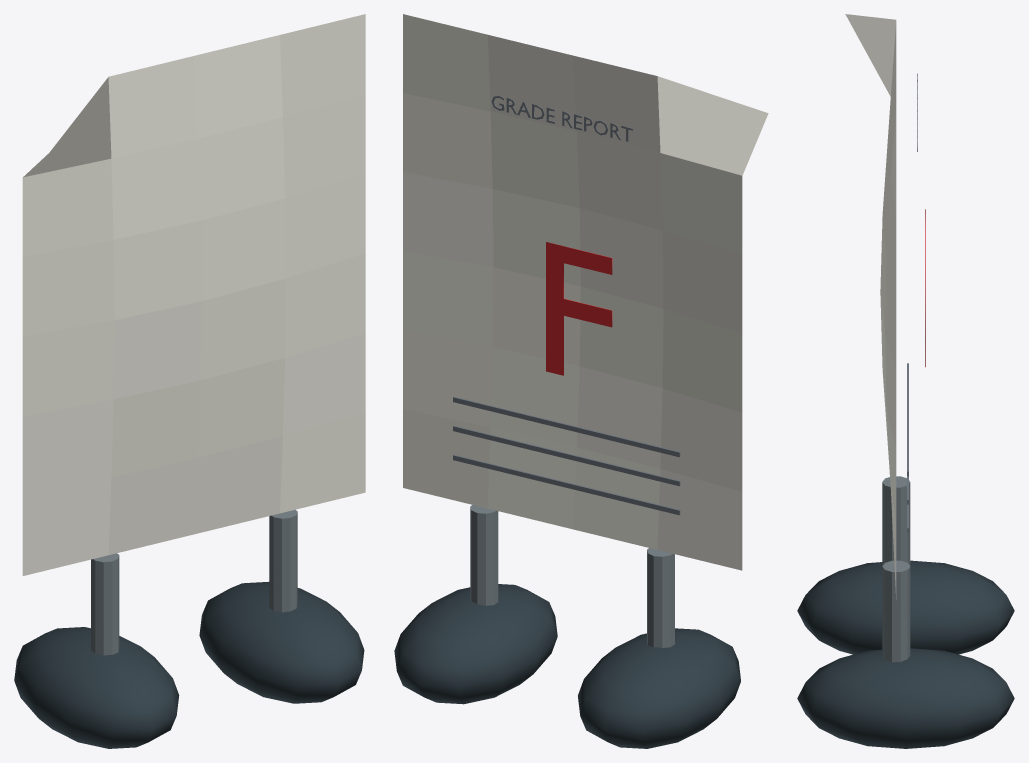
Rendered from paper.glb.
The picture shows the model from 3 angles, left to right: view 1: azimuth 30°, elevation 25°; view 2: azimuth 150°, elevation 25°; view 3: azimuth 270°, elevation 25°; orthographic projection. The views are drawn at different scales.
Parts seen in each view (by area): view 1: Grade sheet, Rubber foot.001, Rubber foot, Flexible leg, Flexible leg.001; view 2: Grade sheet, Rubber foot.001, Rubber foot, Giant F, Flexible leg, Flexible leg.001, Printed rule.002, Printed rule.001, Printed rule, Transcript label; view 3: Rubber foot, Rubber foot.001, Grade sheet, Flexible leg, Flexible leg.001.
Boxes of the visible parts, x1,y1,x2,y2 form: Grade sheet: (22, 14, 365, 575); Rubber foot.001: (14, 627, 179, 748); Rubber foot: (199, 581, 364, 703); Flexible leg: (269, 509, 297, 612); Flexible leg.001: (91, 553, 119, 655); Grade sheet: (403, 14, 768, 570); Rubber foot.001: (578, 628, 740, 748); Rubber foot: (394, 584, 557, 704); Giant F: (546, 242, 612, 375); Flexible leg: (470, 505, 498, 605); Flexible leg.001: (647, 548, 674, 647); Printed rule.002: (453, 454, 680, 515); Printed rule.001: (453, 425, 680, 486); Printed rule: (453, 396, 680, 457); Transcript label: (491, 95, 632, 141); Rubber foot: (797, 648, 1014, 748); Rubber foot.001: (797, 560, 1014, 654); Grade sheet: (845, 14, 896, 599); Flexible leg: (882, 560, 910, 662); Flexible leg.001: (882, 476, 910, 565).
Bounding box in the file's own units: 0.6 × 1.1 × 0.34.
